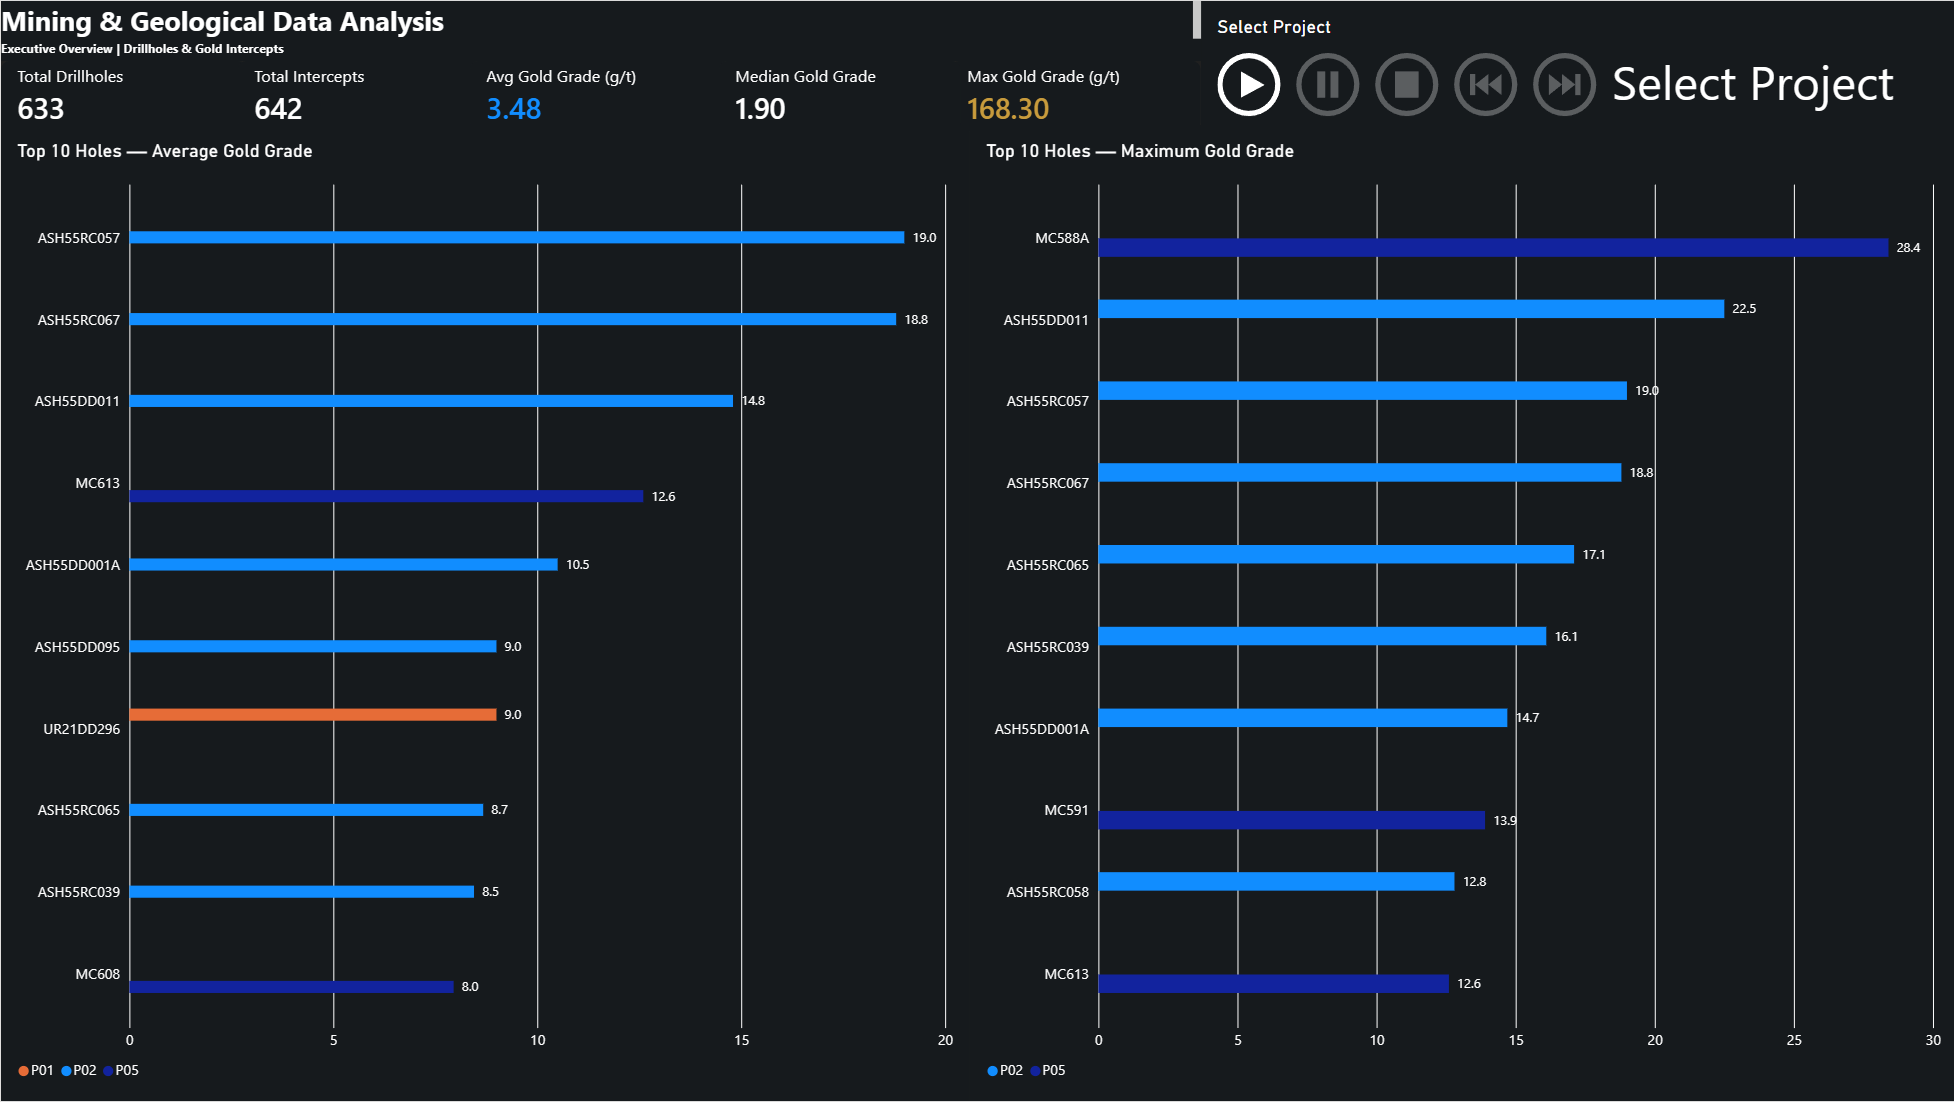

Layout of this report page (visuals, bound fields, positions):
{"tool":"powerbi","page":{"name":"Executive Overview","canvas":[1920,1080],"ordinal":0},"visuals":[{"type":"cardVisual","fields":{"Data":["Count(mining_geology_project drillholes.Collar_Record_ID)"]},"box":[0,58.6,241.8,70],"z":0},{"type":"cardVisual","fields":{"Data":["Count(mining_geology_project intercepts.Intercept_ID)"]},"box":[232.6,58.9,240.5,69.7],"z":1000},{"type":"cardVisual","fields":{"Data":["Max(mining_geology_project intercepts.Au_g_t)"]},"box":[932.2,58.6,245.9,70],"z":2000},{"type":"cardVisual","fields":{"Data":["Avg(mining_geology_project intercepts.Au_g_t)"]},"box":[460.4,58.9,256.2,69.7],"z":3000},{"type":"PBI_CV_16948668_E17D_454B_8664_2F2C470EA8C1","title":"Select Project","fields":{"category":["mining_geology_project drillholes.Project_ID"]},"box":[1178.1,0,741.9,128.6],"z":4000},{"type":"cardVisual","fields":{"Data":["mining_geology_project intercepts.Median Gold Grade"]},"box":[704.8,58.9,237.5,69.7],"z":5000},{"type":"clusteredBarChart","title":"Top 10 Holes — Average Gold Grade","fields":{"Category":["mining_geology_project drillholes.Hole_ID"],"Series":["mining_geology_project intercepts.Project_ID"],"Y":["Avg(mining_geology_project intercepts.Au_g_t)"]},"box":[0,121.4,950.7,959],"z":6000},{"type":"clusteredBarChart","title":"Top 10 Holes — Maximum Gold Grade","fields":{"Category":["mining_geology_project drillholes.Hole_ID"],"Series":["mining_geology_project intercepts.Project_ID"],"Y":["Max(mining_geology_project intercepts.Au_g_t)"]},"box":[950.7,121.4,969.3,959],"z":7000},{"type":"textbox","box":[0,0,1177.9,58.9],"z":8000}]}

Visuals, with their boxes in screenshot pixels (x1, y1, x2, y2), scaled from the page's 1920x1080 canvas onto the 1954x1102 screenshot:
cardVisual - Count(mining_geology_project drillholes.Collar_Record_ID): x1=0, y1=60, x2=246, y2=131
cardVisual - Count(mining_geology_project intercepts.Intercept_ID): x1=237, y1=60, x2=481, y2=131
cardVisual - Max(mining_geology_project intercepts.Au_g_t): x1=949, y1=60, x2=1199, y2=131
cardVisual - Avg(mining_geology_project intercepts.Au_g_t): x1=469, y1=60, x2=729, y2=131
"Select Project" PBI_CV_16948668_E17D_454B_8664_2F2C470EA8C1: x1=1199, y1=0, x2=1953, y2=131
cardVisual - mining_geology_project intercepts.Median Gold Grade: x1=717, y1=60, x2=959, y2=131
"Top 10 Holes — Average Gold Grade" clusteredBarChart: x1=0, y1=124, x2=968, y2=1101
"Top 10 Holes — Maximum Gold Grade" clusteredBarChart: x1=968, y1=124, x2=1953, y2=1101
textbox: x1=0, y1=0, x2=1199, y2=60
